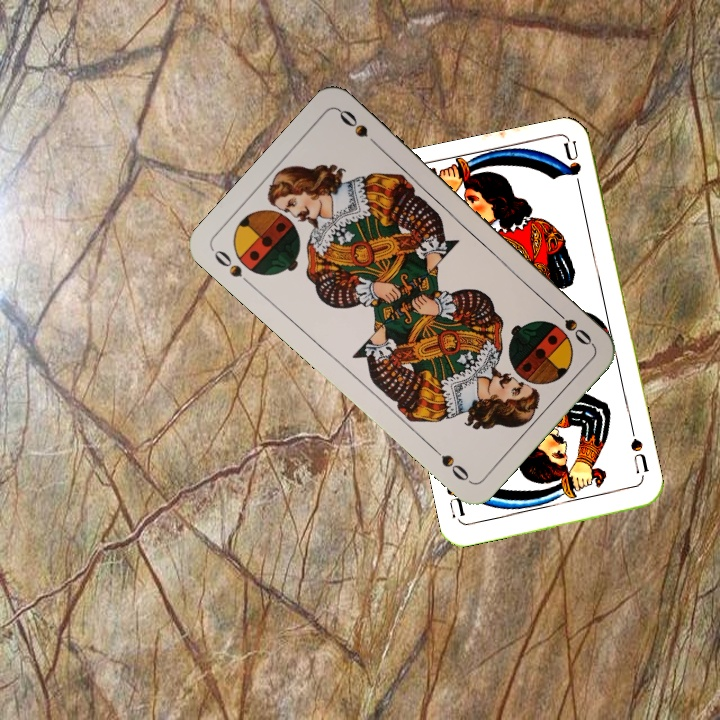SO: (547, 303, 595, 349), (209, 246, 256, 290)
SU: (626, 424, 651, 476)
